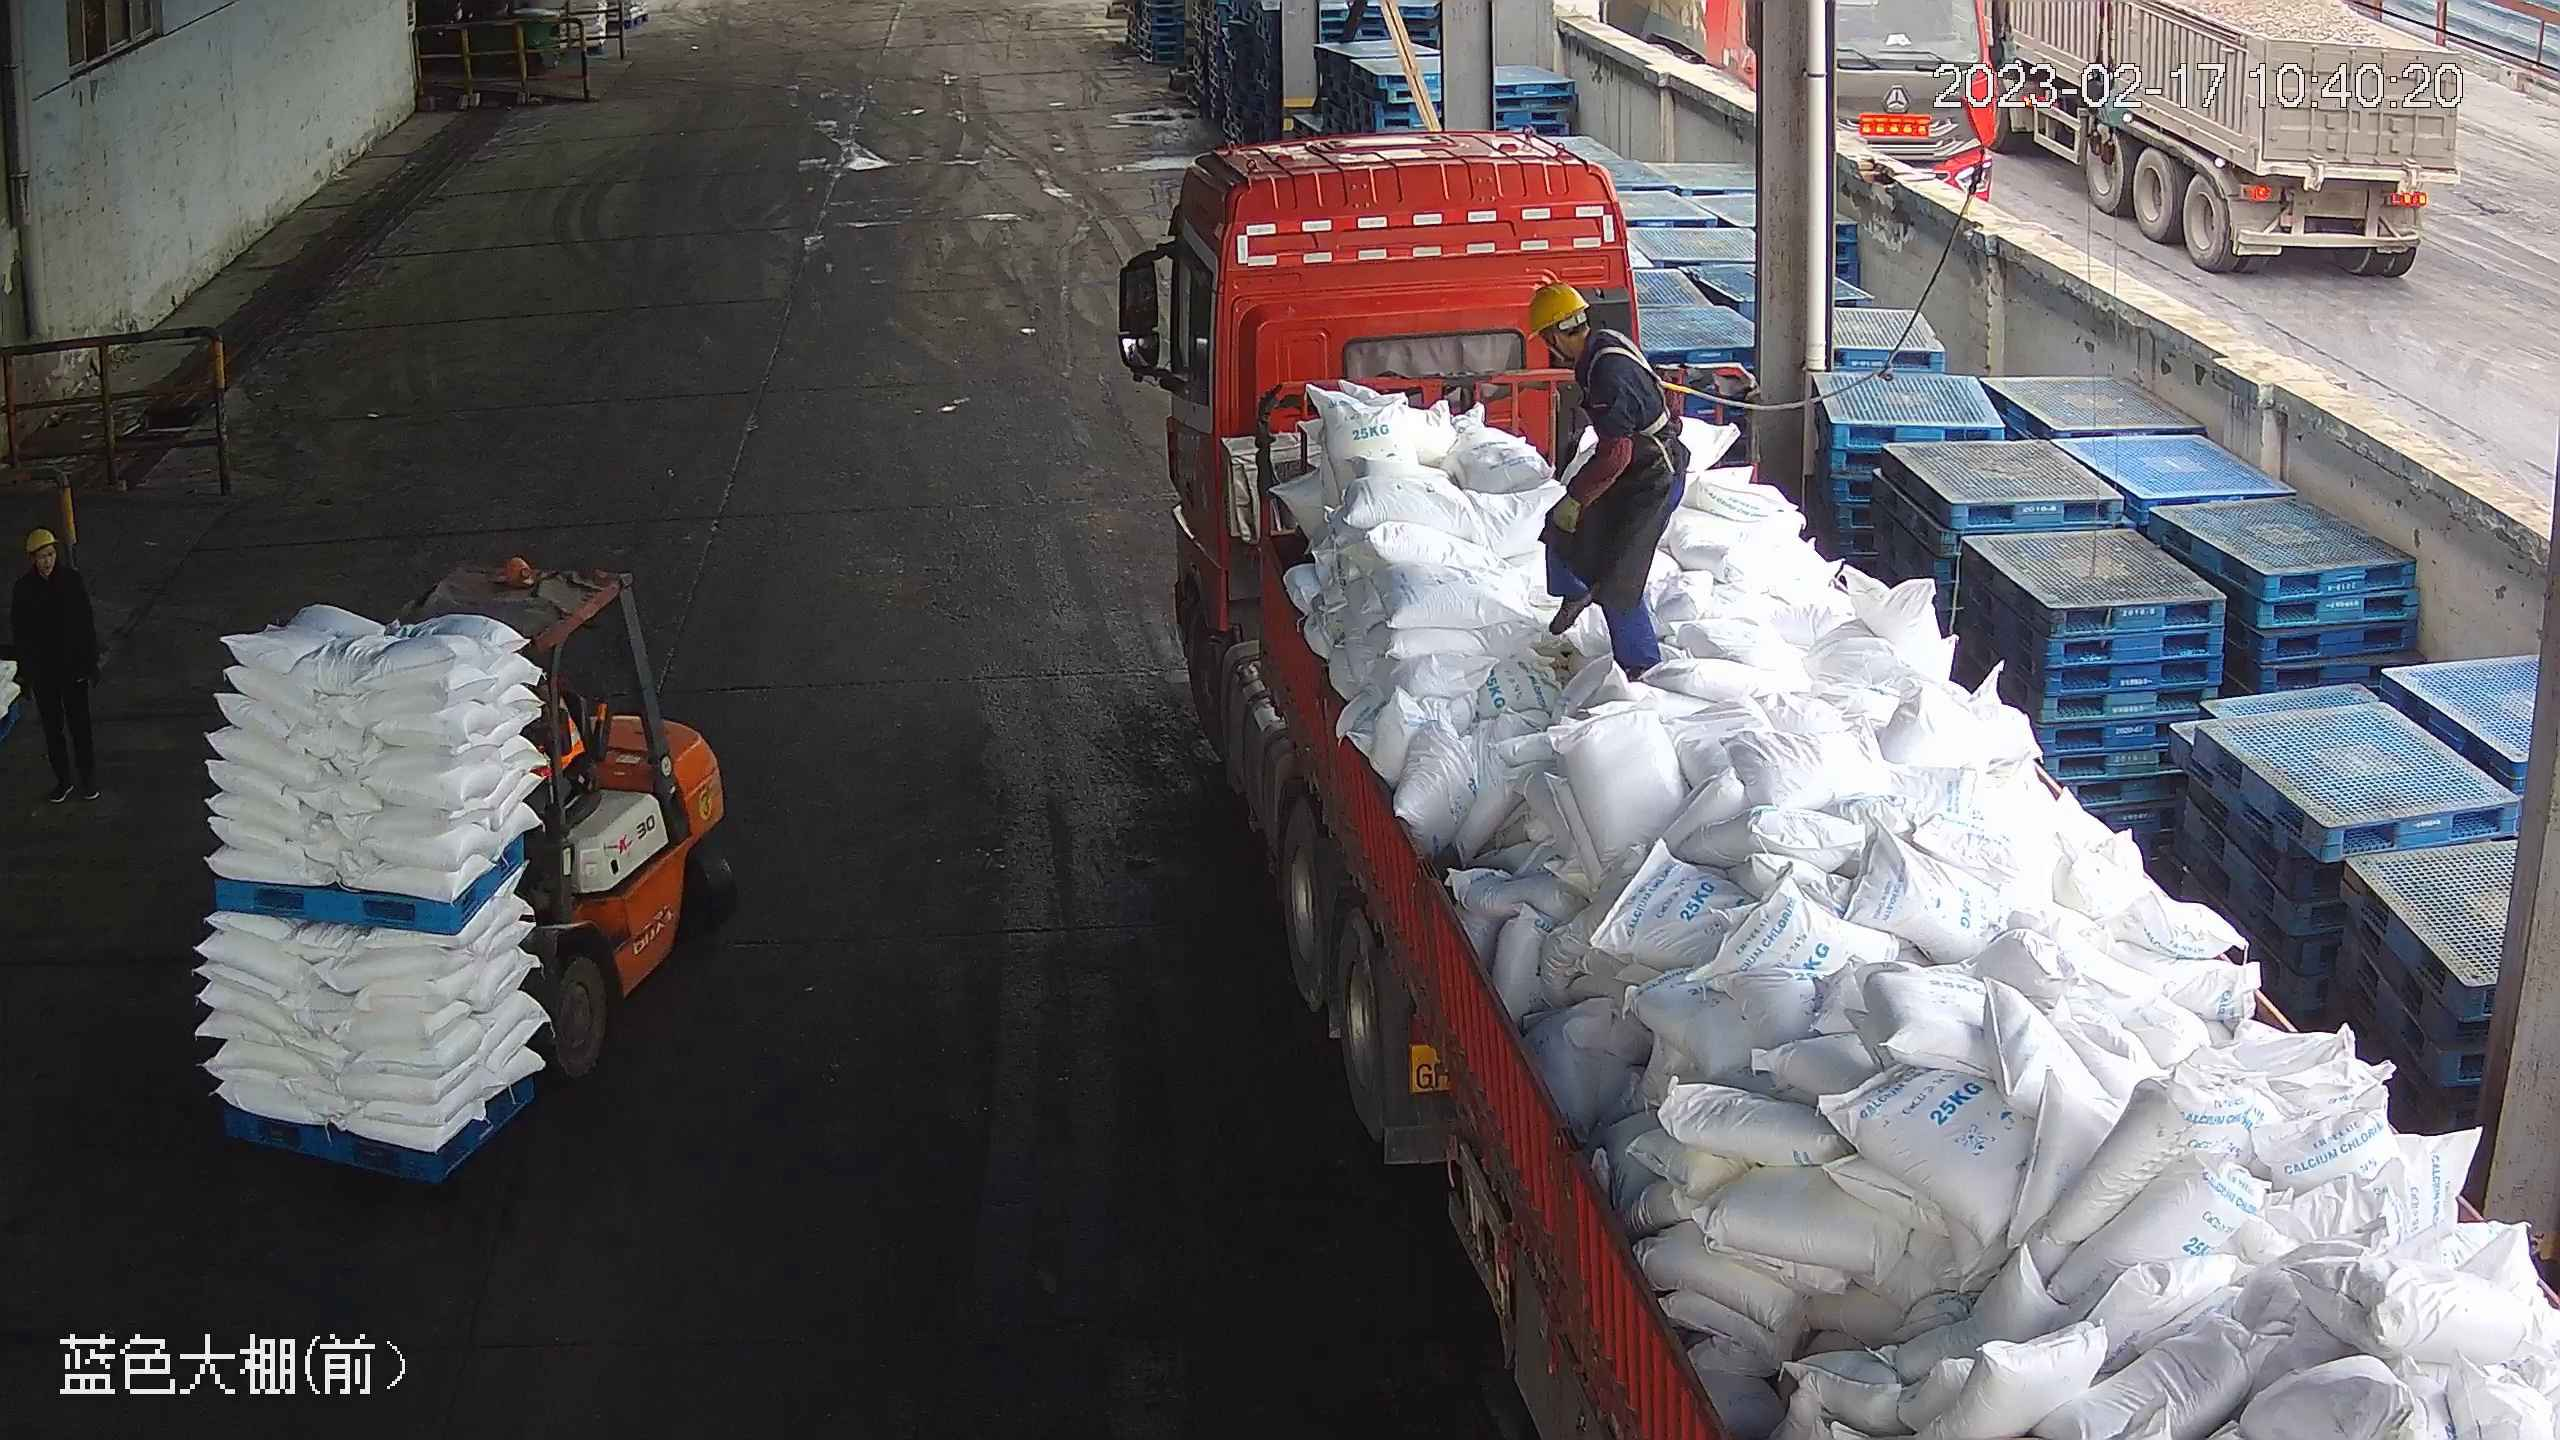belt: (1585, 330, 1686, 442)
head: (1526, 279, 1647, 395), (8, 527, 92, 616)
helmet: (1527, 279, 1591, 339), (19, 526, 55, 553)
people: (1519, 279, 1688, 685), (5, 524, 115, 812)
truck: (1118, 141, 2558, 1438)
